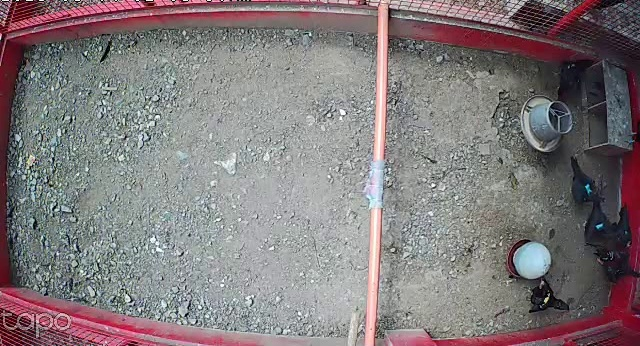Chicken: (579, 196, 626, 254), (560, 154, 606, 206), (520, 274, 575, 313), (552, 56, 593, 101), (613, 204, 637, 250)
Rooster: (578, 239, 640, 284)
Saddle_Color_Blue: (595, 224, 604, 231)
Saddle_Color_Yellow: (542, 293, 551, 305)
